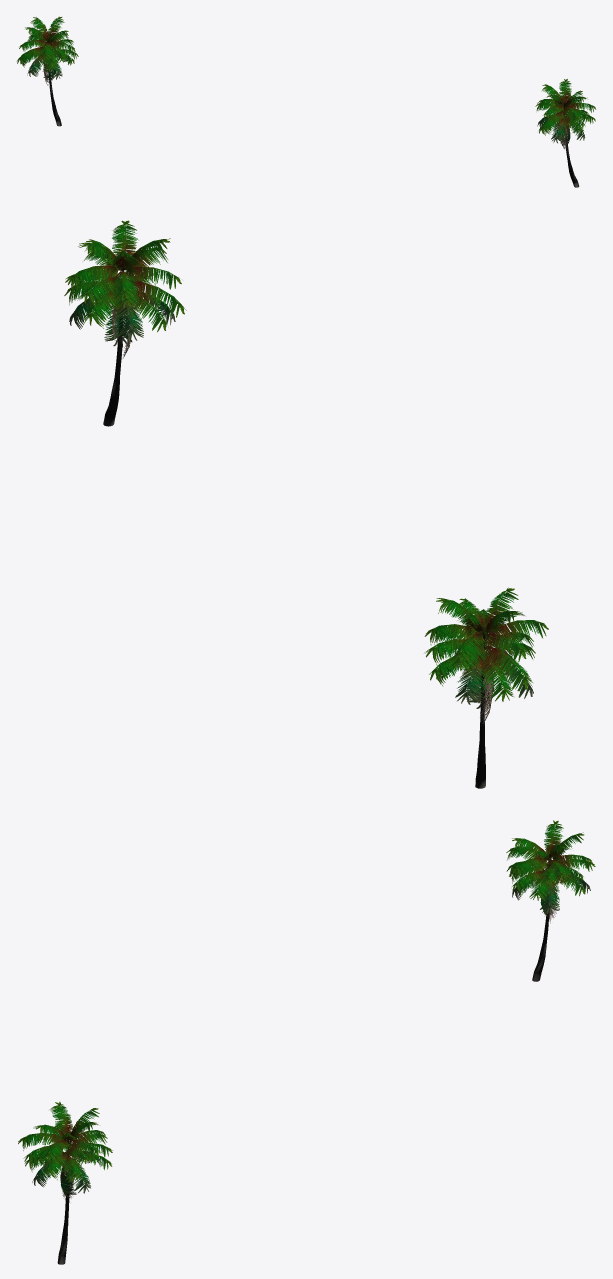
File: coast-0-1.glb
The picture shows the model from 3 angles, top to bottom: view 1: azimuth 30°, elevation 25°; view 2: azimuth 150°, elevation 25°; view 3: azimuth 270°, elevation 25°; orthographic projection. The views are drawn at different scales.
Visible parts, largest first — view 1: coast-0-1; view 2: coast-0-1; view 3: coast-0-1.
Boxes of the visible parts, bbox=[...] form: coast-0-1: bbox=[16, 16, 596, 187]; coast-0-1: bbox=[64, 220, 548, 788]; coast-0-1: bbox=[18, 820, 595, 1264].
Bounding box in the file's own units: 43.2 × 12.78 × 37.58.
Materials: 8 (8 with a texture image).
